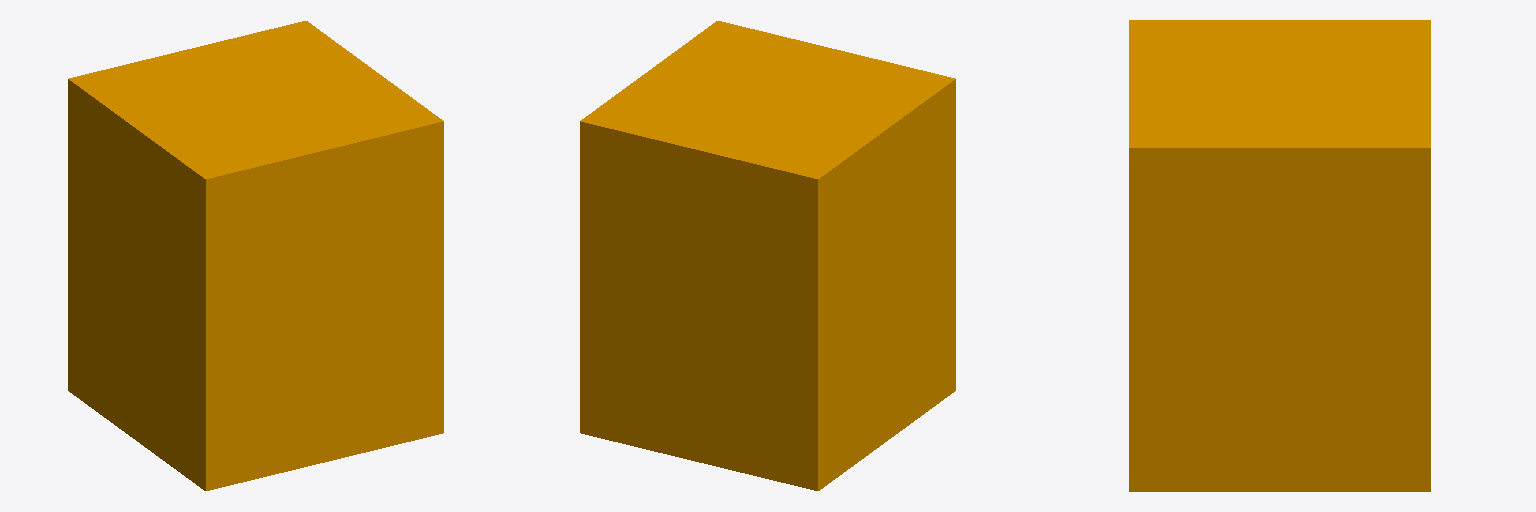
URDF robot description (object):
<robot name="object">
  <link name="object">
    <visual>
      <origin xyz="0 0 0" />
      <geometry>
        <box size="0.064 0.064 0.08" />
      </geometry>
    </visual>

    <collision>
      <origin xyz="0 0 0" />
      <geometry>
        <box size="0.064 0.064 0.08" />
      </geometry>
    </collision>

    <inertial>
      <mass value="0.05" />
      <inertia ixx="0.0001" ixy="0.0" ixz="0.0" iyy="0.0001" iyz="0.0" izz="0.0001" />
    </inertial>
  </link>
</robot>

--- What the picture shows (computed from the rendered views, not written in the file) ---
3 views of the same robot in one strip: view 1: azimuth 30°, elevation 25°; view 2: azimuth 150°, elevation 25°; view 3: azimuth 270°, elevation 25° (orthographic).
Model object with 1 links and 0 joints (none), rooted at object, posed all joints at 0.
Links seen in each view (by area): view 1: object; view 2: object; view 3: object.
Boxes of the visible links, x1,y1,x2,y2 form: object: [68, 21, 443, 490]; object: [580, 21, 955, 490]; object: [1129, 20, 1430, 491].
Size in the robot's own frame: 0.064 by 0.064 by 0.08 metres.
Geometry: primitives only (box / cylinder / sphere), no mesh files.